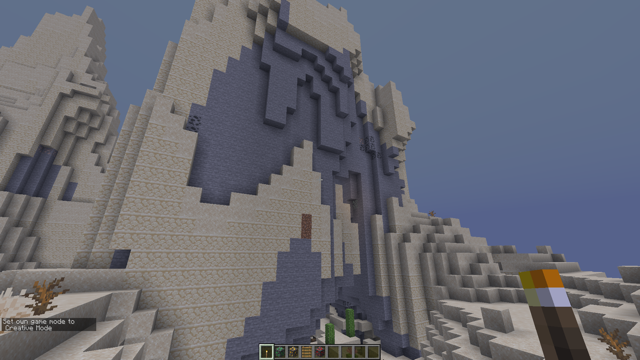coal: (359, 131, 382, 159), (186, 112, 202, 134)
